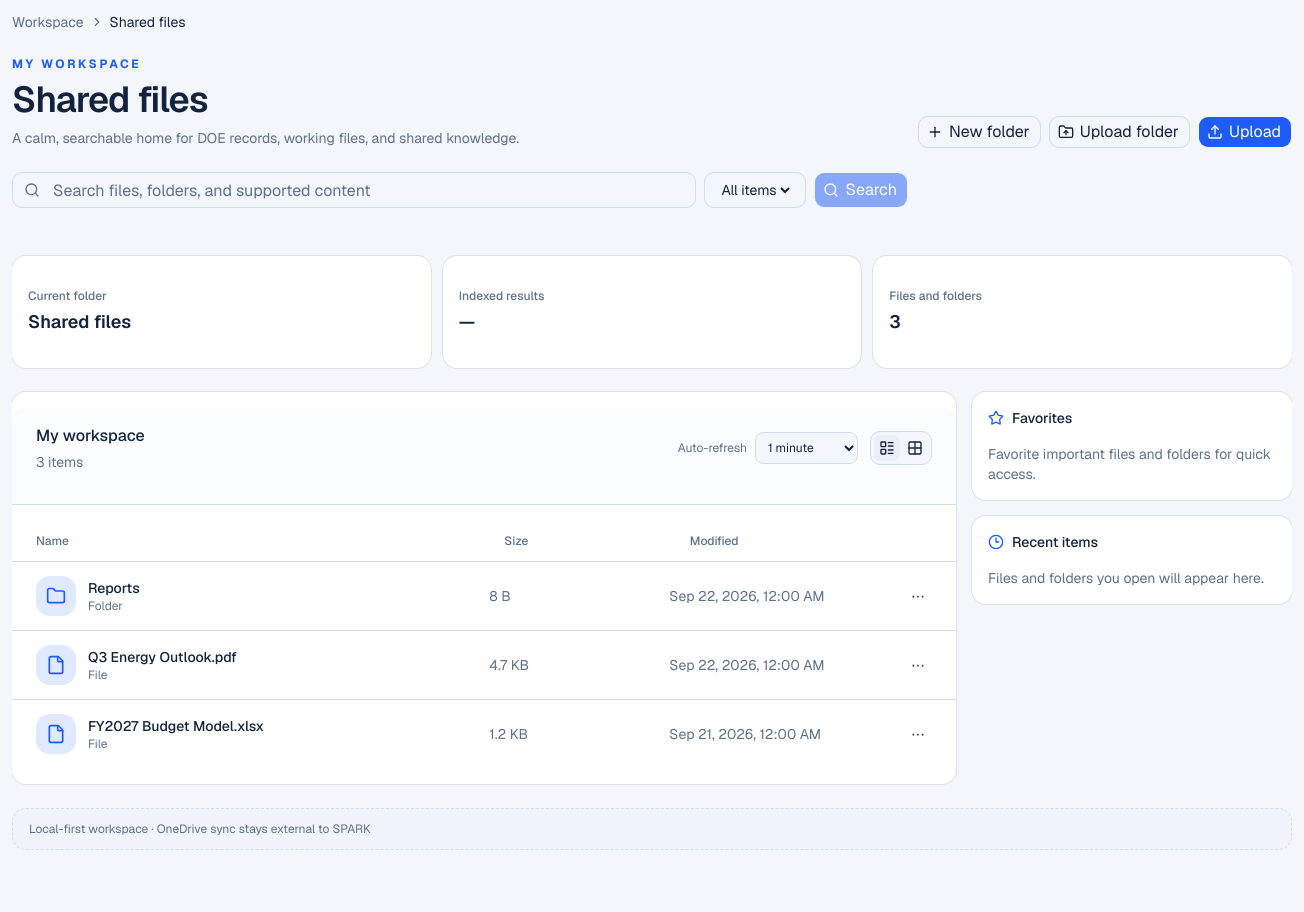
Test case: FileWorkspace › refreshes the current folder at the selected interval
Select "15 seconds" in the dropdown named "Auto-refresh interval": point(806, 448) [755,432,858,464]
Wait 15000 ms
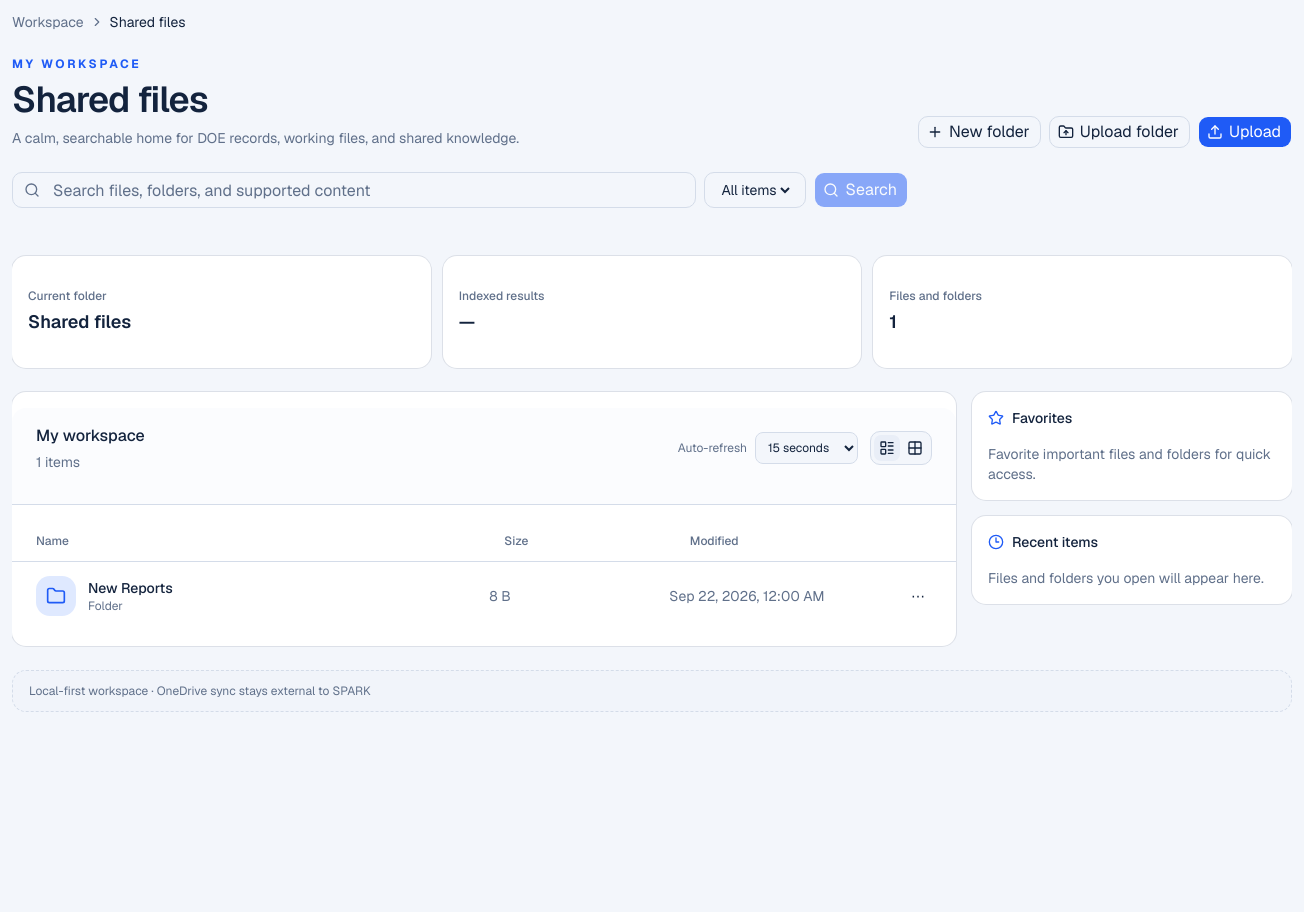
Check: the text "New Reports" is shown, box [88,578,173,598]
